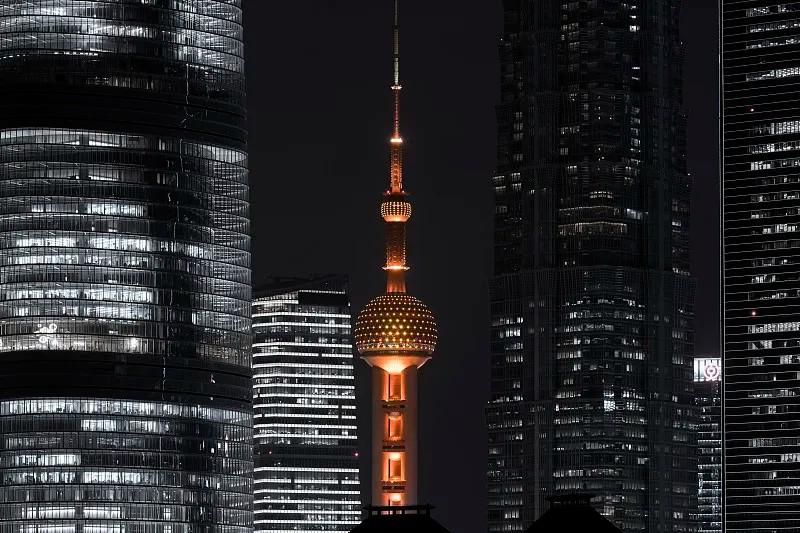Oriental: (354, 3, 438, 519)
